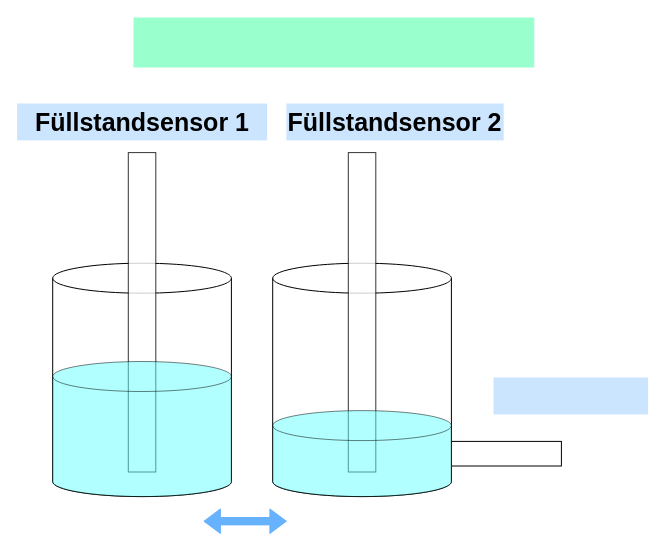
Some shapes in this 665 by 551 pixel diagram are drawn without their labels. The centre of each missing label's shape, as x and y in pixels:
"Drucksensor" goes at point (570, 395).
"Vergleich der Flüssigkeitsstände" goes at point (333, 42).
